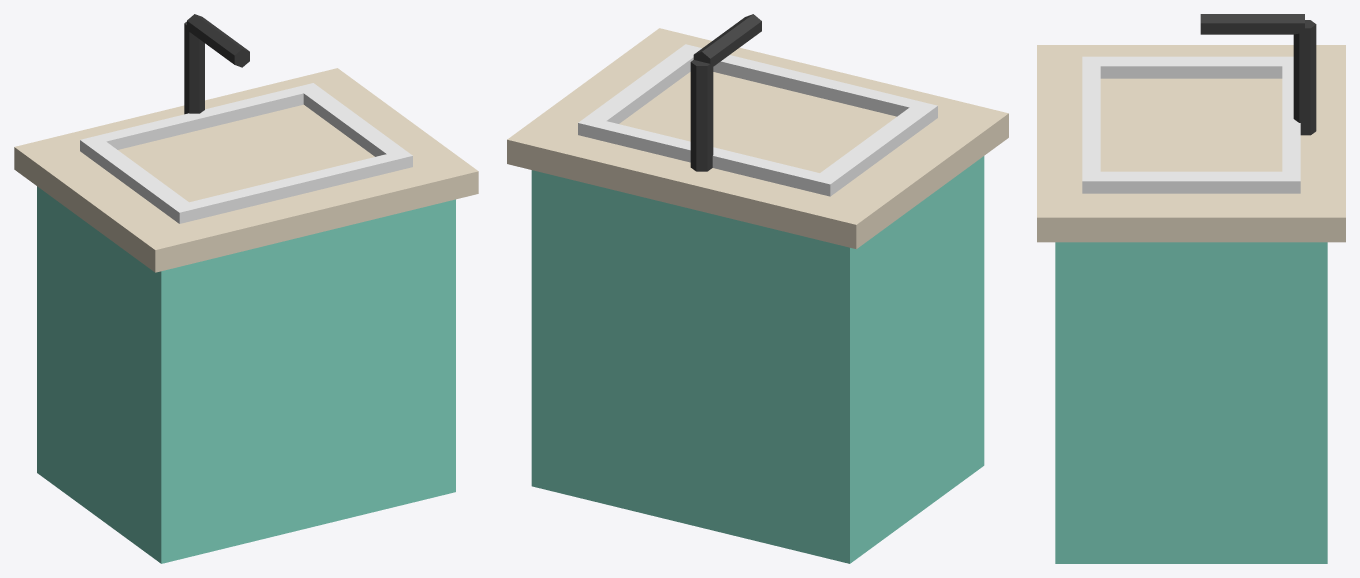
3 renders of one model, left to right at view 1: azimuth 30°, elevation 25°; view 2: azimuth 150°, elevation 25°; view 3: azimuth 270°, elevation 25°, orthographic. The views are drawn at different scales.
Parts seen in each view (by area): view 1: Cabinet, Counter, Basin rim.002, Basin rim.003, Basin rim, Basin rim.001, Faucet, Spout; view 2: Cabinet, Counter, Basin rim.003, Basin rim.002, Basin rim, Basin rim.001, Faucet, Spout; view 3: Cabinet, Counter, Basin rim.001, Basin rim, Faucet, Spout, Basin rim.002, Basin rim.003.
Boxes of the visible parts, left/top/right/bottom form: Cabinet: left=37, top=186, right=455, bottom=563; Counter: left=14, top=68, right=478, bottom=272; Basin rim.002: left=187, top=154, right=403, bottom=219; Basin rim.003: left=89, top=87, right=303, bottom=149; Basin rim: left=80, top=136, right=197, bottom=223; Basin rim.001: left=296, top=83, right=412, bottom=169; Faucet: left=184, top=21, right=204, bottom=114; Spout: left=187, top=14, right=249, bottom=67; Cabinet: left=531, top=156, right=984, bottom=563; Counter: left=507, top=28, right=1008, bottom=249; Basin rim.003: left=587, top=121, right=829, bottom=193; Basin rim.002: left=687, top=47, right=917, bottom=116; Basin rim: left=811, top=101, right=937, bottom=196; Basin rim.001: left=578, top=44, right=701, bottom=139; Faucet: left=690, top=60, right=713, bottom=171; Spout: left=693, top=14, right=761, bottom=66; Cabinet: left=1055, top=242, right=1327, bottom=563; Counter: left=1037, top=45, right=1345, bottom=242; Basin rim.001: left=1082, top=171, right=1300, bottom=193; Basin rim: left=1082, top=56, right=1293, bottom=78; Faucet: left=1293, top=20, right=1316, bottom=135; Spout: left=1200, top=14, right=1304, bottom=34; Basin rim.002: left=1082, top=61, right=1100, bottom=172; Basin rim.003: left=1282, top=61, right=1300, bottom=171.
Size of the model in its own units: 0.9 by 1.15 by 0.68.
Materials: 1 (1 with a texture image).
